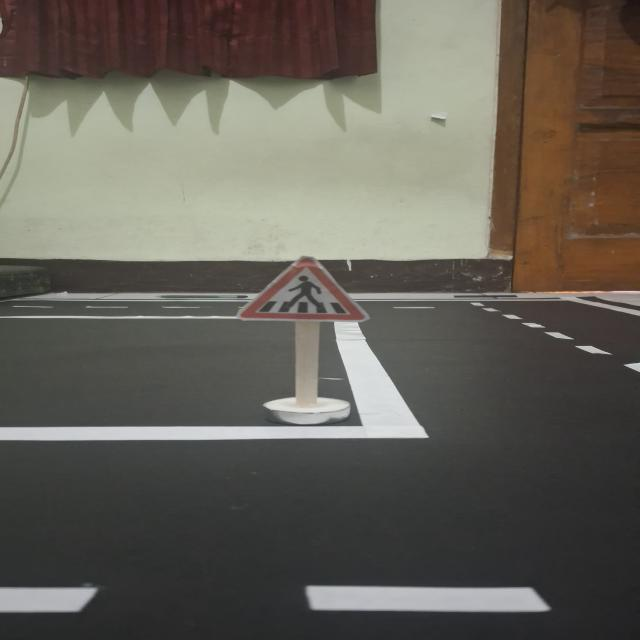Rambu Penyebrangan: (238, 256, 370, 322)
